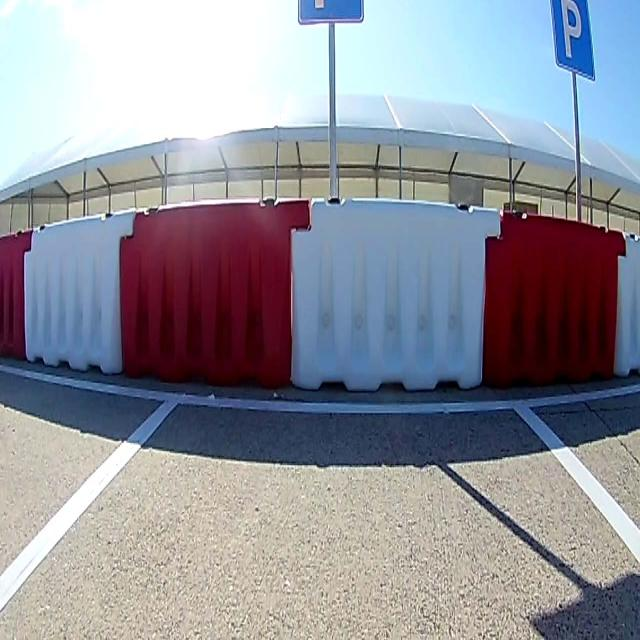park: (551, 1, 595, 80)
